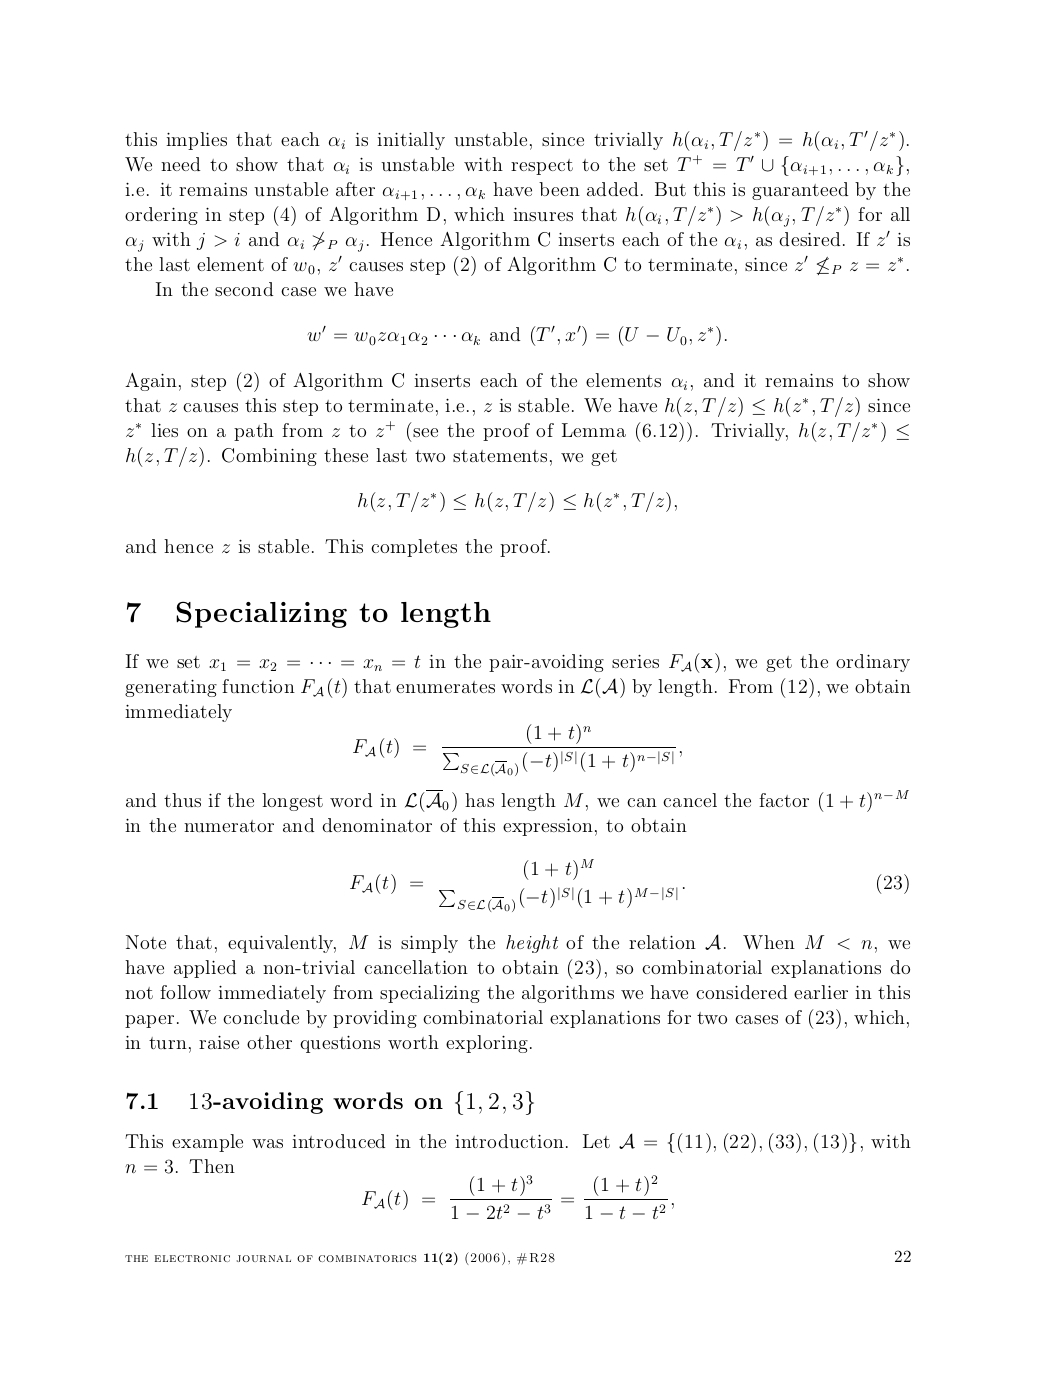formula: (350, 858, 908, 913), (353, 724, 681, 776), (362, 1175, 673, 1219), (306, 324, 726, 345), (358, 491, 676, 512)
